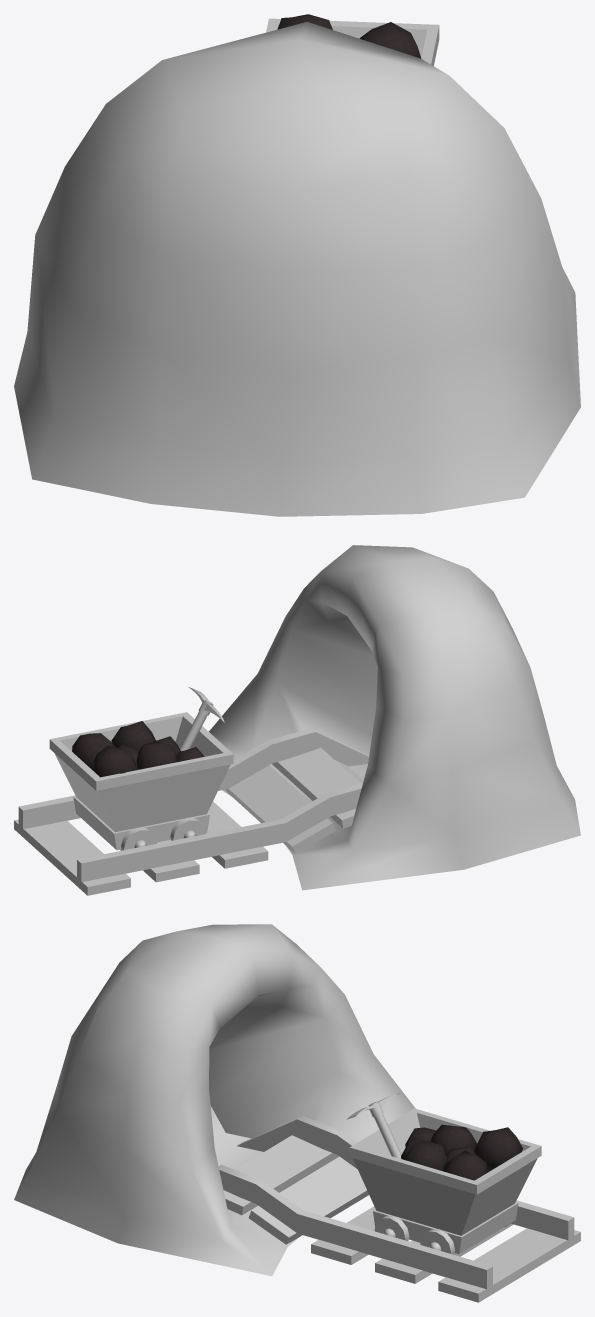
Rendered from Mine.FBX.
3 views of the same model, one above another, from view 1: azimuth 30°, elevation 25°; view 2: azimuth 150°, elevation 25°; view 3: azimuth 270°, elevation 25° (orthographic). The views are drawn at different scales.
Visible parts, largest first — view 1: Box002, Box001, Box014; view 2: Box002, Box004, Box001, Box012, Box015, Box016, Box014, Cylinder005; view 3: Box002, Box004, Box001, Box012, Box014, Box016, Box015, Cylinder005.
Part boxes in pixels (x1,y1,x2,y2): Box002: (14,22,580,516); Box001: (266,18,439,65); Box014: (359,22,421,58); Box002: (209,545,580,890); Box004: (14,728,369,895); Box001: (49,712,233,850); Box012: (92,745,137,777); Box015: (136,741,177,769); Box016: (111,721,155,750); Box014: (72,733,114,770); Cylinder005: (180,687,224,751); Box002: (14,924,415,1276); Box004: (218,1116,580,1302); Box001: (349,1108,541,1254); Box012: (473,1127,522,1171); Box014: (443,1150,488,1180); Box016: (404,1141,447,1171); Box015: (430,1124,477,1154); Cylinder005: (347,1093,401,1158).
Size of the model in its own units: 73.78 by 40.82 by 81.88.
